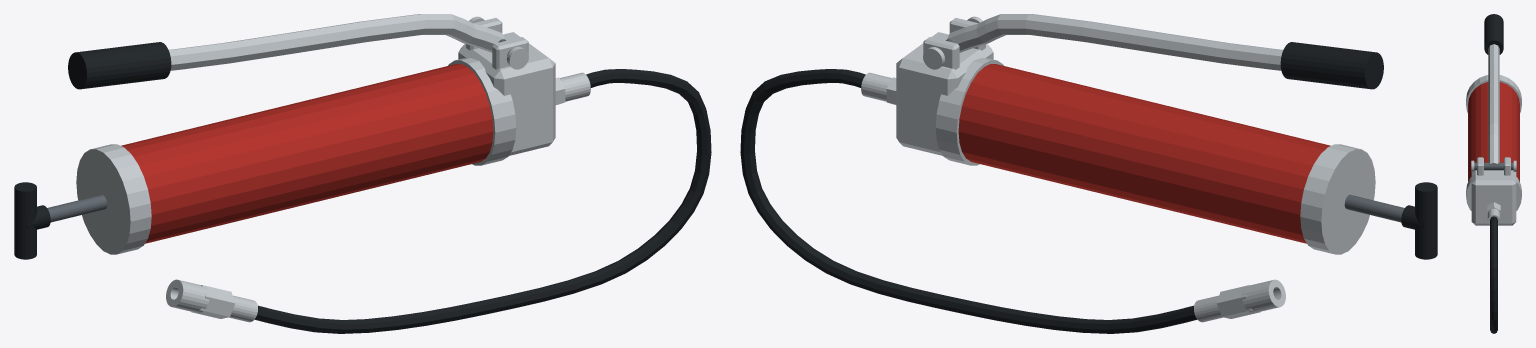
Rendered from full.glb.
3 views of the same model, side by side, from view 1: azimuth 30°, elevation 25°; view 2: azimuth 150°, elevation 25°; view 3: azimuth 270°, elevation 25° (orthographic). The views are drawn at different scales.
Visible parts, largest first — view 1: Closed grease barrel, Continuous delivery hose, Long lever spine, Rear threaded appearance cap, Closed pump head, Rear lever handgrip, Front barrel collar, Dark T pull handle, Coupler annular mouth, Rear plunger shaft, Coupler hex body, Hose head ferrule (+2 smaller); view 2: Closed grease barrel, Continuous delivery hose, Long lever spine, Rear threaded appearance cap, Closed pump head, Rear lever handgrip, Front barrel collar, Dark T pull handle, Coupler annular mouth, Rear plunger shaft, Coupler hex body, Hose head ferrule (+2 smaller); view 3: Closed grease barrel, Closed pump head, Long lever spine, Continuous delivery hose, Rear lever handgrip, Rear threaded appearance cap, Front barrel collar, Lever hinge pin, Hose head ferrule, Head pivot ear -0.014, Head pivot ear 0.014, Head outlet hex fitting.
Part boxes in pixels (left/top/right/bottom): Closed grease barrel: left=121, top=64, right=493, bottom=243; Continuous delivery hose: left=254, top=69, right=711, bottom=333; Long lever spine: left=168, top=14, right=504, bottom=70; Rear threaded appearance cap: left=76, top=144, right=151, bottom=254; Closed pump head: left=458, top=32, right=555, bottom=155; Rear lever handgrip: left=68, top=42, right=171, bottom=89; Front barrel collar: left=448, top=58, right=516, bottom=165; Dark T pull handle: left=14, top=182, right=36, bottom=259; Coupler annular mouth: left=166, top=279, right=209, bottom=313; Rear plunger shaft: left=47, top=194, right=107, bottom=222; Coupler hex body: left=191, top=285, right=235, bottom=318; Hose head ferrule: left=559, top=72, right=590, bottom=101; Closed grease barrel: left=958, top=64, right=1330, bottom=243; Continuous delivery hose: left=740, top=69, right=1197, bottom=333; Long lever spine: left=947, top=14, right=1283, bottom=70; Rear threaded appearance cap: left=1300, top=144, right=1375, bottom=254; Closed pump head: left=896, top=32, right=993, bottom=155; Rear lever handgrip: left=1280, top=42, right=1383, bottom=89; Front barrel collar: left=935, top=58, right=1003, bottom=165; Dark T pull handle: left=1415, top=182, right=1437, bottom=259; Coupler annular mouth: left=1242, top=279, right=1285, bottom=313; Rear plunger shaft: left=1344, top=194, right=1404, bottom=222; Coupler hex body: left=1216, top=285, right=1260, bottom=318; Hose head ferrule: left=861, top=72, right=892, bottom=101; Closed grease barrel: left=1468, top=82, right=1519, bottom=181; Closed pump head: left=1471, top=170, right=1516, bottom=225; Long lever spine: left=1488, top=44, right=1499, bottom=164; Continuous delivery hose: left=1490, top=216, right=1497, bottom=333; Rear lever handgrip: left=1484, top=14, right=1503, bottom=54; Rear threaded appearance cap: left=1466, top=75, right=1521, bottom=112; Front barrel collar: left=1466, top=177, right=1521, bottom=210; Lever hinge pin: left=1474, top=162, right=1513, bottom=170; Hose head ferrule: left=1487, top=208, right=1500, bottom=224; Head pivot ear -0.014: left=1477, top=157, right=1483, bottom=175; Head pivot ear 0.014: left=1504, top=157, right=1510, bottom=175; Head outlet hex fitting: left=1487, top=202, right=1500, bottom=217.
Bounding box in the file's own units: 0.4287 × 0.2127 × 0.058.
